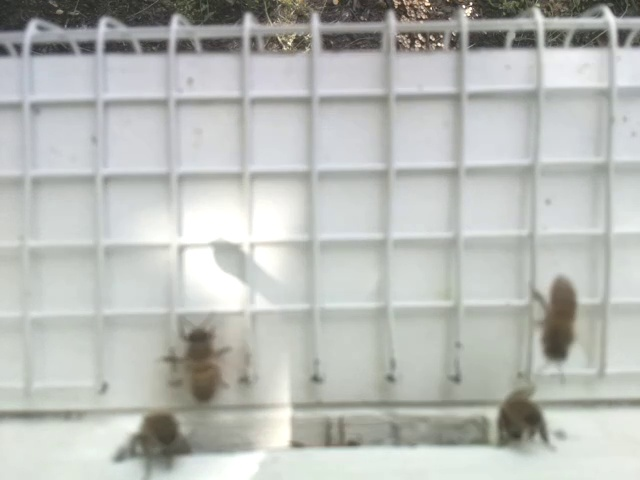bee: (155, 304, 249, 405), (479, 371, 572, 462), (111, 400, 210, 475), (525, 262, 586, 368)
